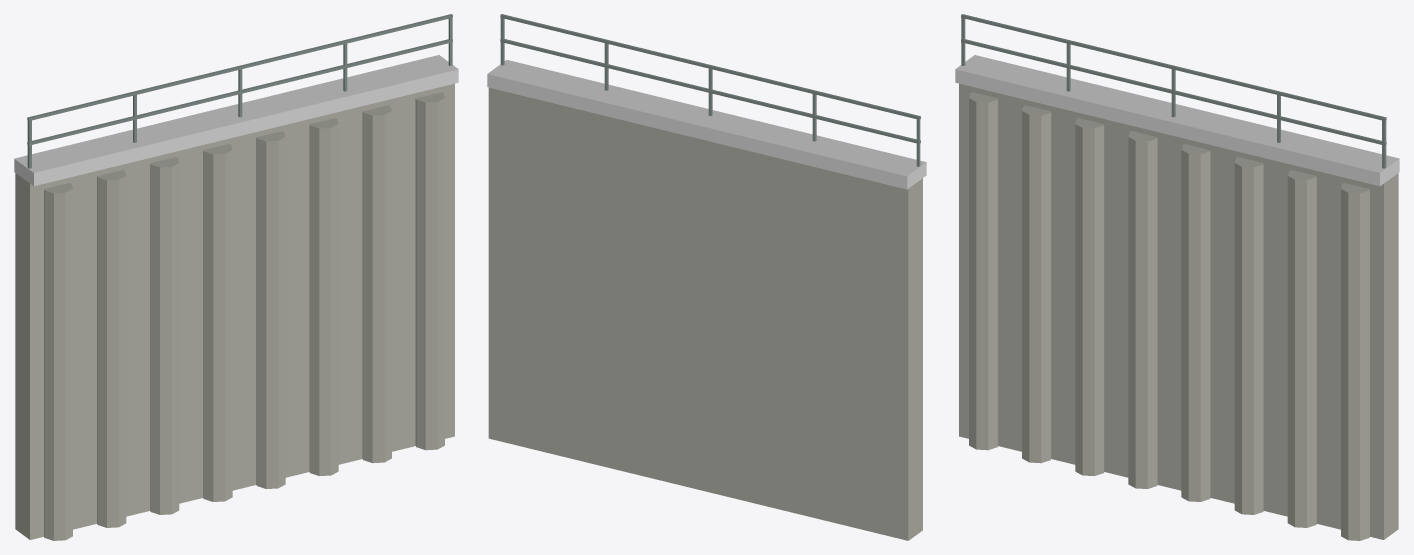
File: SM_MuroTrinchera_Muro_v1_Pilotes_LOD0.fbx
The picture shows the model from 3 angles, left to right: view 1: azimuth 30°, elevation 25°; view 2: azimuth 150°, elevation 25°; view 3: azimuth 330°, elevation 25°; orthographic projection.
Parts seen in each view (by area): view 1: SM_muro_trinchera_v1_LOD0; view 2: SM_muro_trinchera_v1_LOD0; view 3: SM_muro_trinchera_v1_LOD0.
Boxes of the visible parts, x1,y1,x2,y2 form: SM_muro_trinchera_v1_LOD0: (14, 14, 458, 540); SM_muro_trinchera_v1_LOD0: (487, 14, 926, 540); SM_muro_trinchera_v1_LOD0: (955, 14, 1399, 540).
Size of the model in its own units: 9.98 by 9.43 by 1.02.
